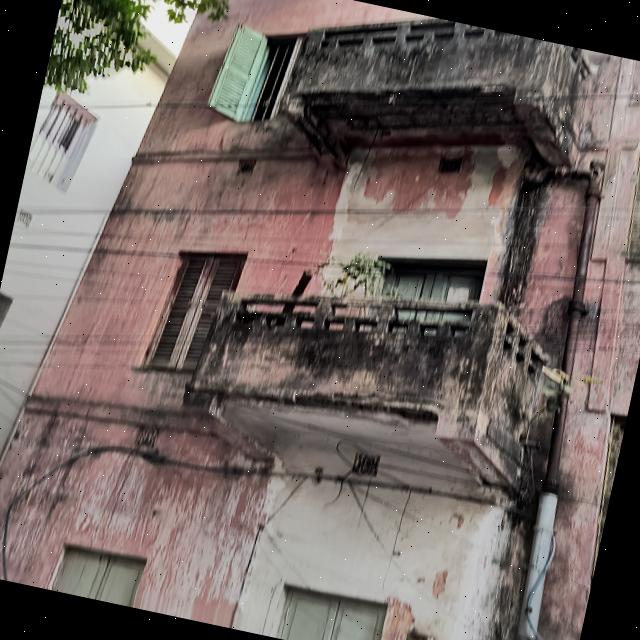stain_mould: (201, 283, 589, 512), (274, 21, 594, 173), (482, 167, 629, 398), (479, 474, 570, 640)
